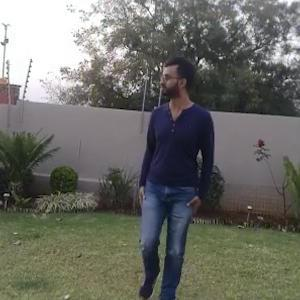follow: (128, 50, 217, 296)
